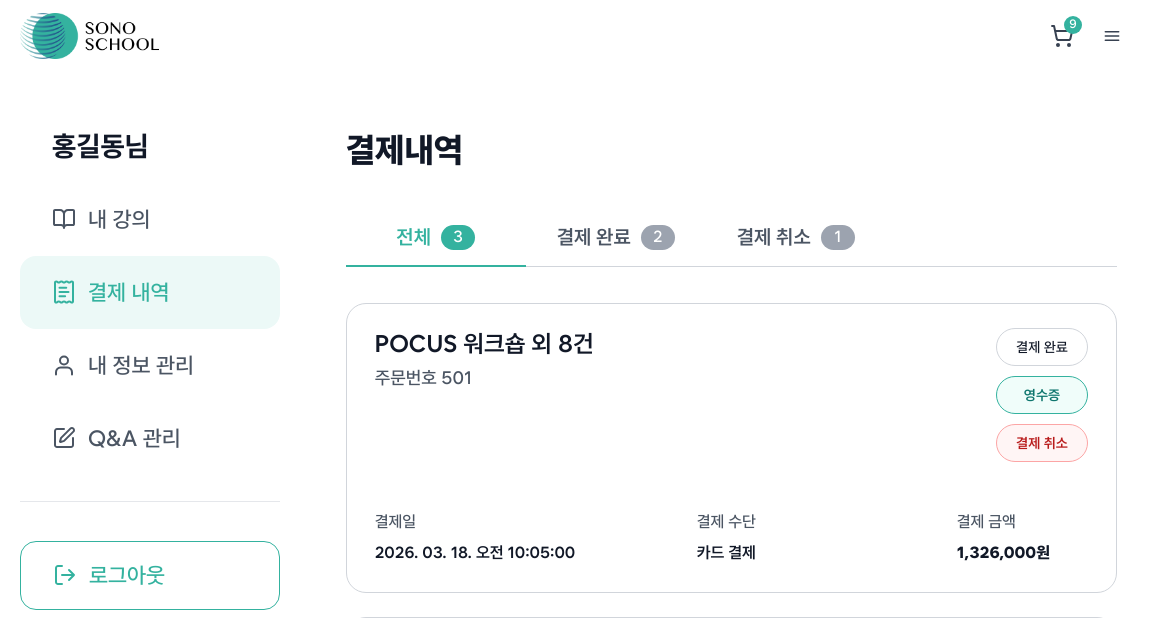
Test: router layouts › shows the refund request guide instead of cancelling payments from mypage
The width and height of the screenshot is (1152, 618).
Click the button "결제 취소". click: (1042, 443)
box: 996,424 -> 1088,462
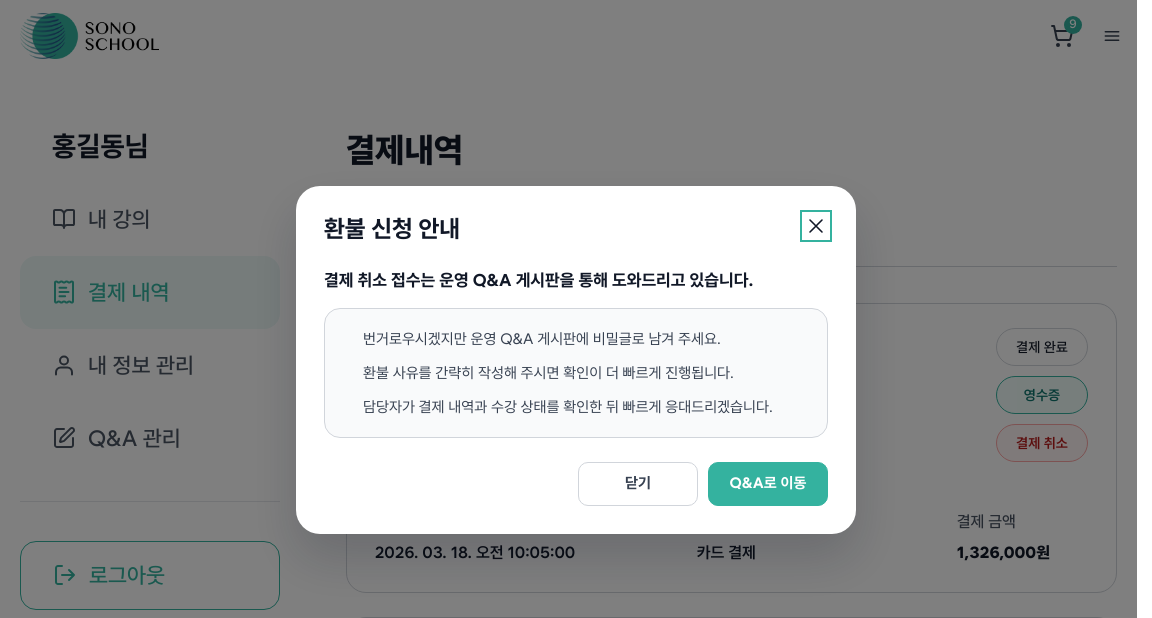
expect the dialog "환불 신청 안내" is shown: met, box 296,186 -> 856,534
expect the text "결제 취소 접수는 운영 Q&A 게시판을 통해 도와드리고 있습니다." is shown: met, box 324,267 -> 828,294
expect the list item "번거로우시겠지만 운영 Q&A 게시판에 비밀글로 남겨 주세요." is shown: met, box 363,330 -> 721,348
